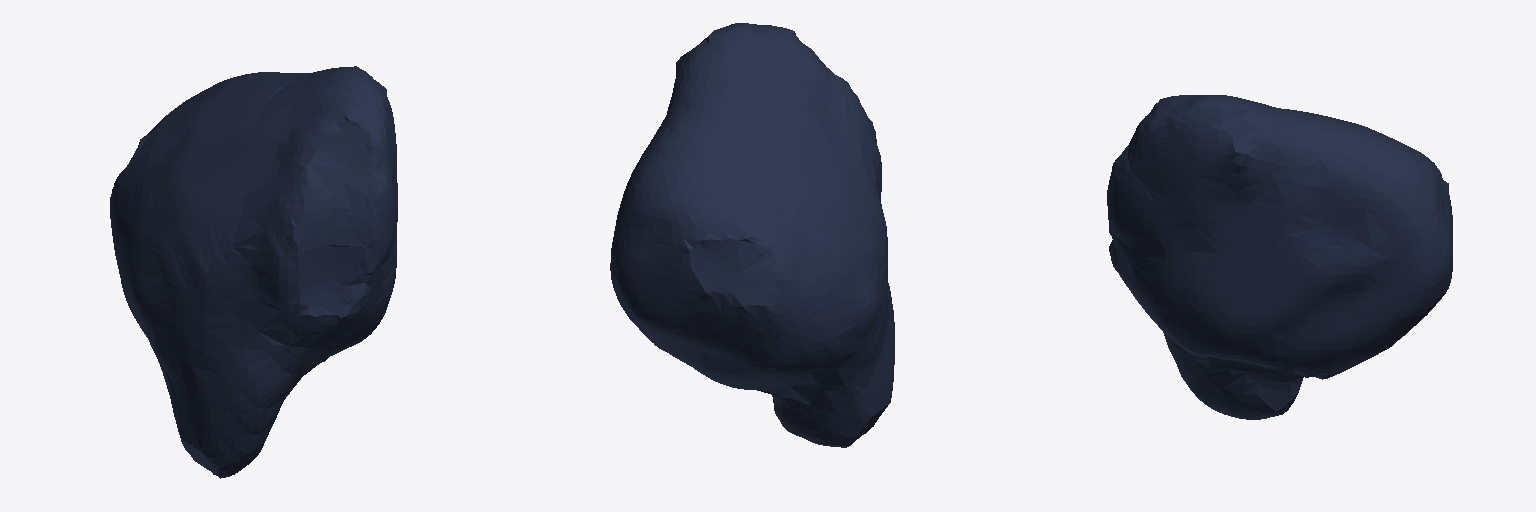
Rendered from Model_10267_LH__Mediodorsal_thalamic_nucleus_(MD).obj.
The picture shows the model from 3 angles: view 1: azimuth 30°, elevation 25°; view 2: azimuth 150°, elevation 25°; view 3: azimuth 270°, elevation 25°; orthographic projection.
Bounding box in the file's own units: 2.22 × 3.63 × 3.01.